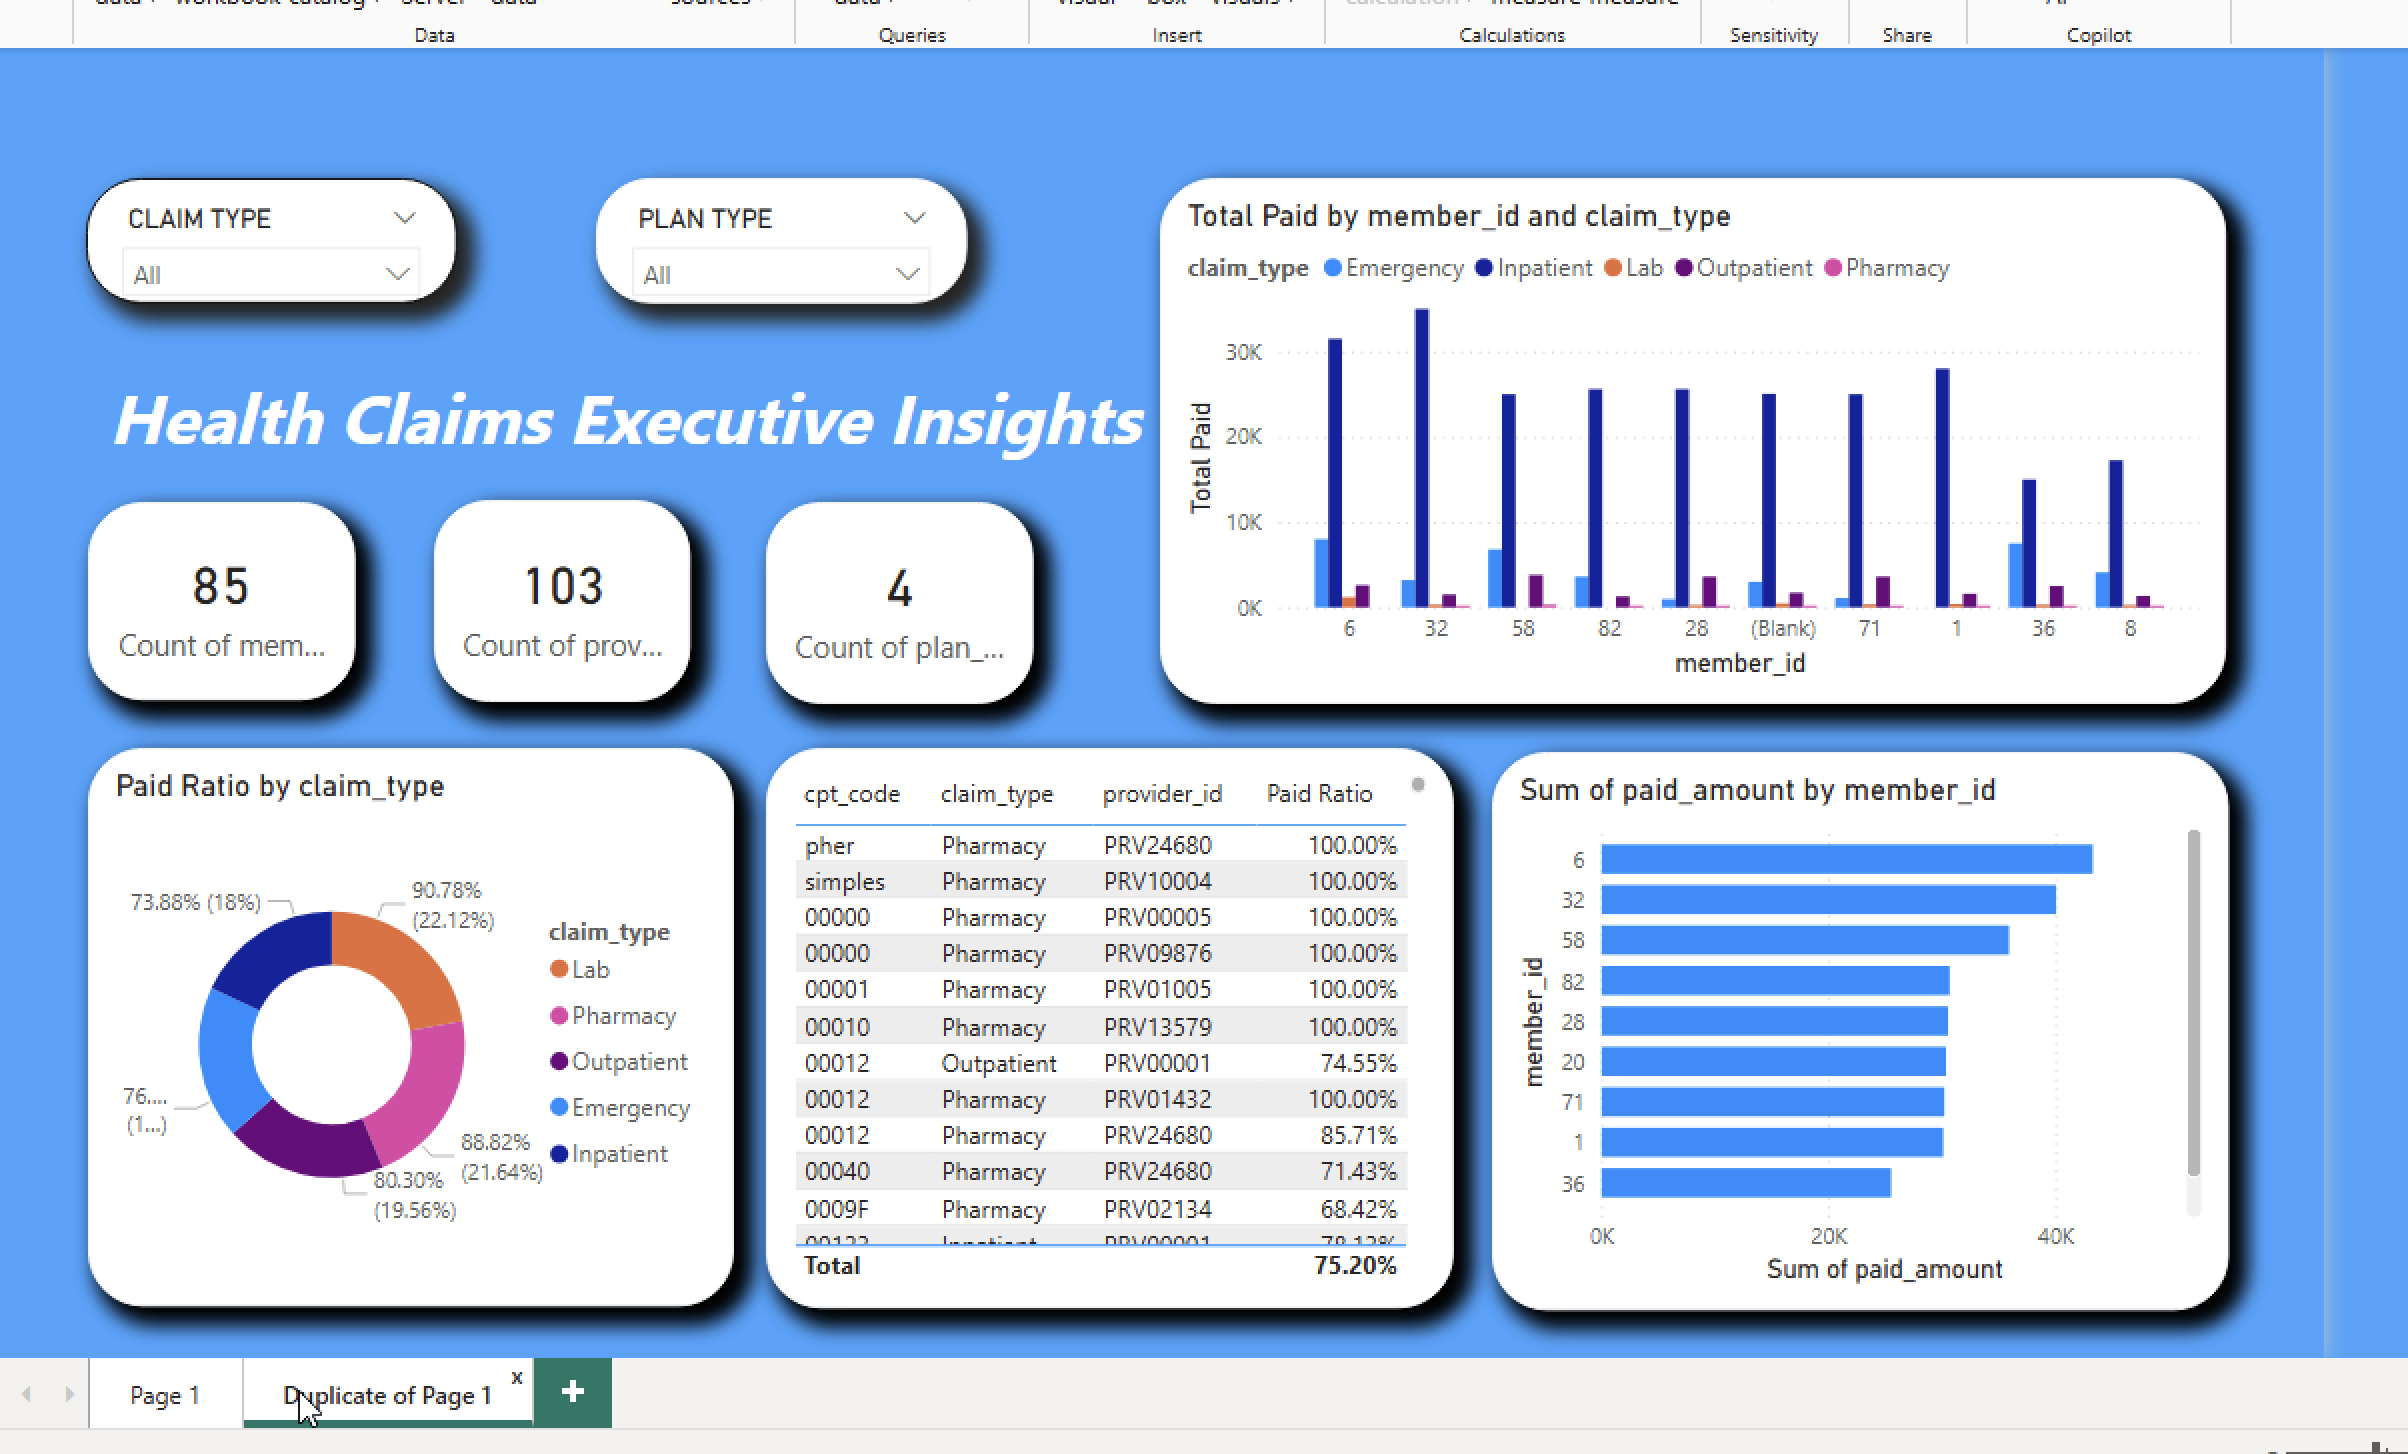

This screenshot's page, from the dashboard's own definition file:
{"tool":"powerbi","page":{"name":"MEMBERS","canvas":[1280,720],"ordinal":1},"visuals":[{"type":"card","title":"Total Providers","fields":{"Values":["Count(claims.provider_id)"]},"box":[240.2,247.6,144.8,111.4],"z":0},{"type":"card","title":"Plan Types","fields":{"Values":["Count(members.plan_type)"]},"box":[422.9,249.3,146.9,111.3],"z":1000},{"type":"card","title":"Active Members","fields":{"Values":["Count(members.member_id)"]},"box":[49.5,248.8,152.3,108.9],"z":2000},{"type":"donutChart","title":"Payment Efficiency by Claim Type","fields":{"Y":["claims.Paid Ratio"],"Category":["claims.claim_type"]},"box":[50.1,385,355,307.1],"z":3000},{"type":"tableEx","title":"Procedures with Payment Variance","fields":{"Values":["claims.cpt_code","claims.claim_type","claims.provider_id","claims.Paid Ratio"]},"box":[422.9,385,378.4,308.3],"z":4000},{"type":"clusteredBarChart","title":"Payment Efficiency by Claim Type","fields":{"Category":["claims.member_id"],"Y":["Sum(claims.paid_amount)"]},"box":[821.8,387.3,405,307.4],"z":5000},{"type":"clusteredColumnChart","title":"Claim Type Spend by High-Cost Members","fields":{"Category":["members.member_id"],"Y":["claims.Total Paid"],"Series":["claims.claim_type"]},"box":[639.9,71.2,586.5,289.3],"z":6000},{"type":"textbox","box":[49.5,0,1177.3,71.8],"z":7000},{"type":"slicer","fields":{"Values":["claims.claim_type"]},"box":[49.5,71.8,204.3,69.3],"z":8000},{"type":"slicer","fields":{"Values":["members.plan_type"]},"box":[329.3,71.8,204.3,69.3],"z":9000},{"type":"pageNavigator","box":[49.5,165.9,480.3,49.5],"z":10000}]}

Visuals, with their boxes on the page's 1280x720 design canvas (x1, y1, x2, y2). These are canvas units, not pixel positions in the 2408x1454 screenshot, which may show the page scaled, cropped or inside an application window:
"Total Providers" card: <bbox>240, 248, 385, 359</bbox>
"Plan Types" card: <bbox>423, 249, 570, 361</bbox>
"Active Members" card: <bbox>50, 249, 202, 358</bbox>
"Payment Efficiency by Claim Type" donutChart: <bbox>50, 385, 405, 692</bbox>
"Procedures with Payment Variance" tableEx: <bbox>423, 385, 801, 693</bbox>
"Payment Efficiency by Claim Type" clusteredBarChart: <bbox>822, 387, 1227, 695</bbox>
"Claim Type Spend by High-Cost Members" clusteredColumnChart: <bbox>640, 71, 1226, 360</bbox>
textbox: <bbox>50, 0, 1227, 72</bbox>
slicer - claims.claim_type: <bbox>50, 72, 254, 141</bbox>
slicer - members.plan_type: <bbox>329, 72, 534, 141</bbox>
pageNavigator: <bbox>50, 166, 530, 215</bbox>
